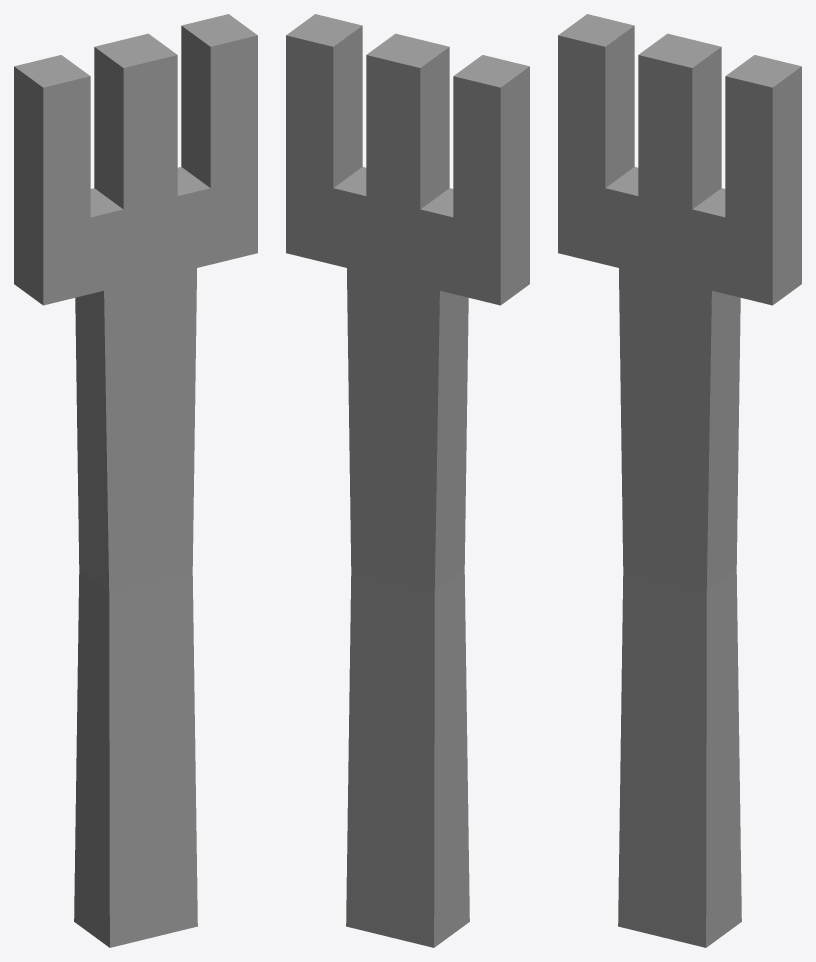
The model's file is Fork.fbx.
3 renders of one model, left to right at view 1: azimuth 30°, elevation 25°; view 2: azimuth 150°, elevation 25°; view 3: azimuth 330°, elevation 25°, orthographic.
Visible parts, largest first — view 1: Fork; view 2: Fork; view 3: Fork.
Boxes of the visible parts, x1=… form: Fork: x1=14, y1=14, x2=257, y2=947; Fork: x1=286, y1=14, x2=529, y2=947; Fork: x1=558, y1=14, x2=801, y2=947.
Size of the model in its own units: 0.0441 by 0.1714 by 0.0127.
